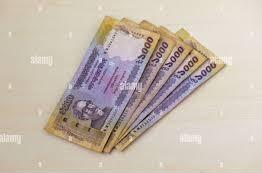100 tk: (39, 14, 226, 157)
